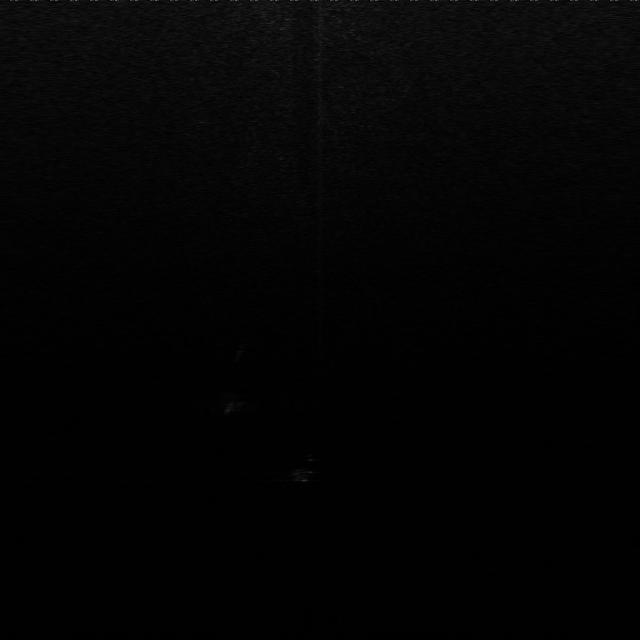circle cage: (214, 388, 254, 420)
tyre: (288, 450, 323, 488)
